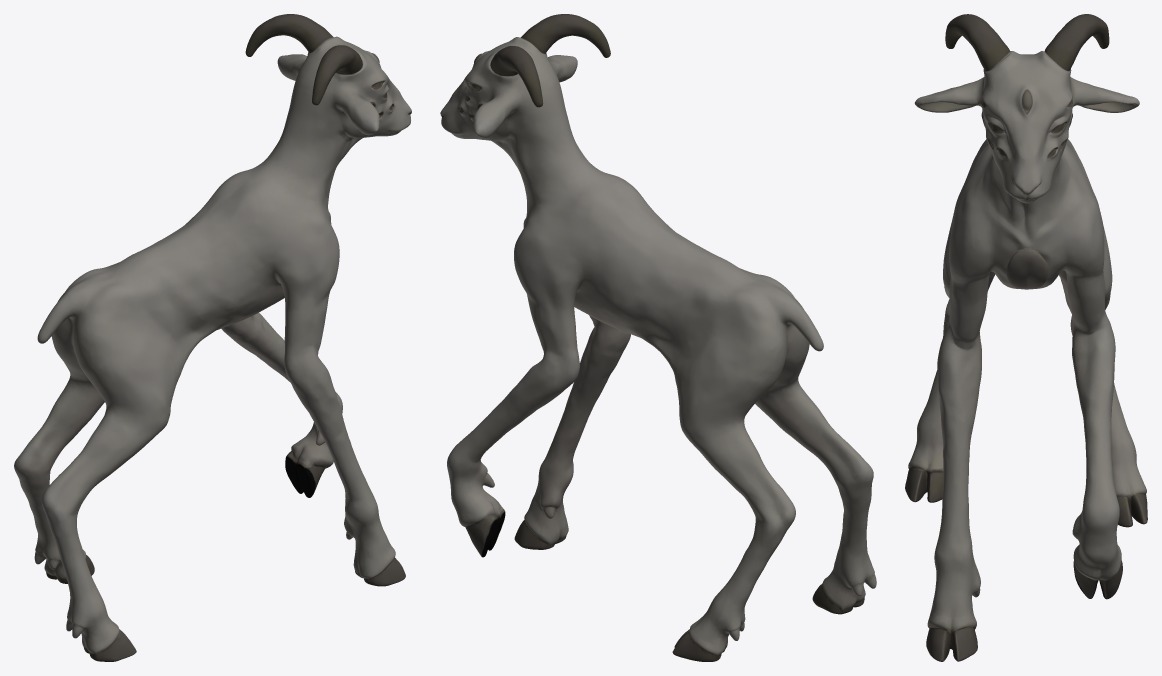
File: creature_juvenile.glb
3 views of the same model, side by side, from view 1: azimuth 30°, elevation 25°; view 2: azimuth 150°, elevation 25°; view 3: azimuth 270°, elevation 25° (orthographic). The views are drawn at different scales.
Parts seen in each view (by area): view 1: tripo_node_289a88c8-904f-4287-9c18-9ff9f0f9c3e0; view 2: tripo_node_289a88c8-904f-4287-9c18-9ff9f0f9c3e0; view 3: tripo_node_289a88c8-904f-4287-9c18-9ff9f0f9c3e0.
Boxes of the visible parts, x1,y1,x2,y2 form: tripo_node_289a88c8-904f-4287-9c18-9ff9f0f9c3e0: [14, 14, 411, 661]; tripo_node_289a88c8-904f-4287-9c18-9ff9f0f9c3e0: [440, 14, 876, 661]; tripo_node_289a88c8-904f-4287-9c18-9ff9f0f9c3e0: [905, 14, 1147, 661].
Bounding box in the file's own units: 0.7758 × 1 × 0.3583.
1 material, 1 textured.
